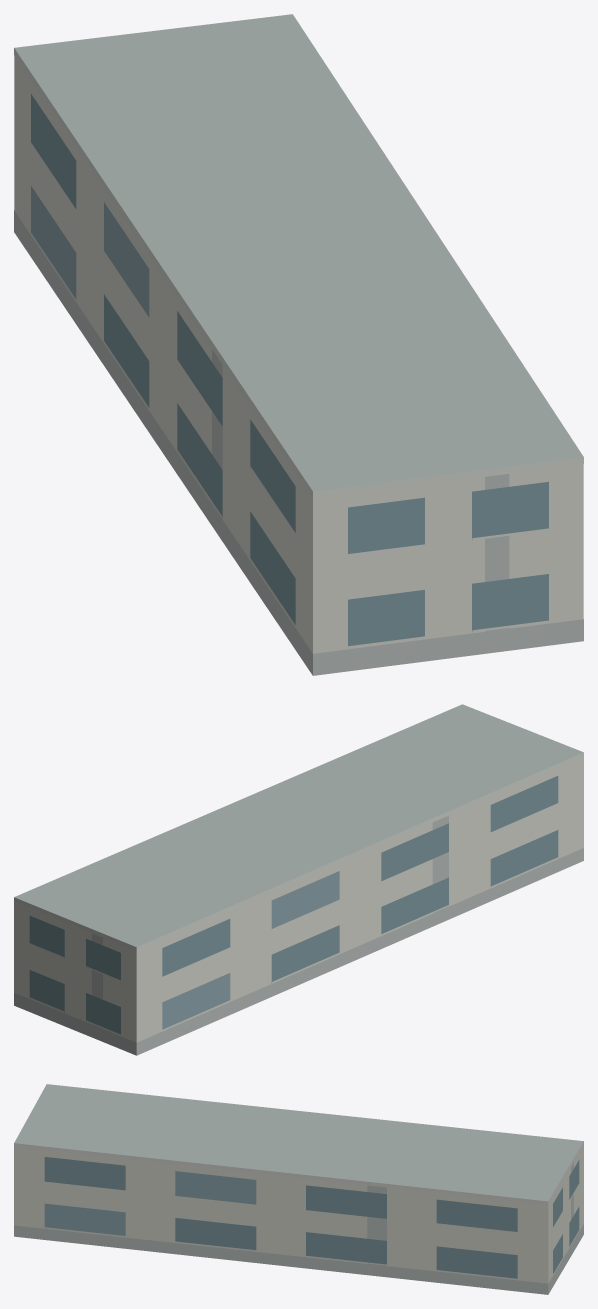
Rendered from survey-upis-32871901.glb.
The picture shows the model from 3 angles, top to bottom: view 1: azimuth 30°, elevation 25°; view 2: azimuth 150°, elevation 25°; view 3: azimuth 270°, elevation 25°; orthographic projection. The views are drawn at different scales.
Visible parts, largest first — view 1: survey-upis-32871901.tmp; view 2: survey-upis-32871901.tmp; view 3: survey-upis-32871901.tmp.
Part boxes in pixels (x1,y1,x2,y2): survey-upis-32871901.tmp: (14,14,583,675); survey-upis-32871901.tmp: (14,704,583,1055); survey-upis-32871901.tmp: (14,1084,583,1294).
Bounding box in the file's own units: 16.44 × 6.1 × 33.71.
